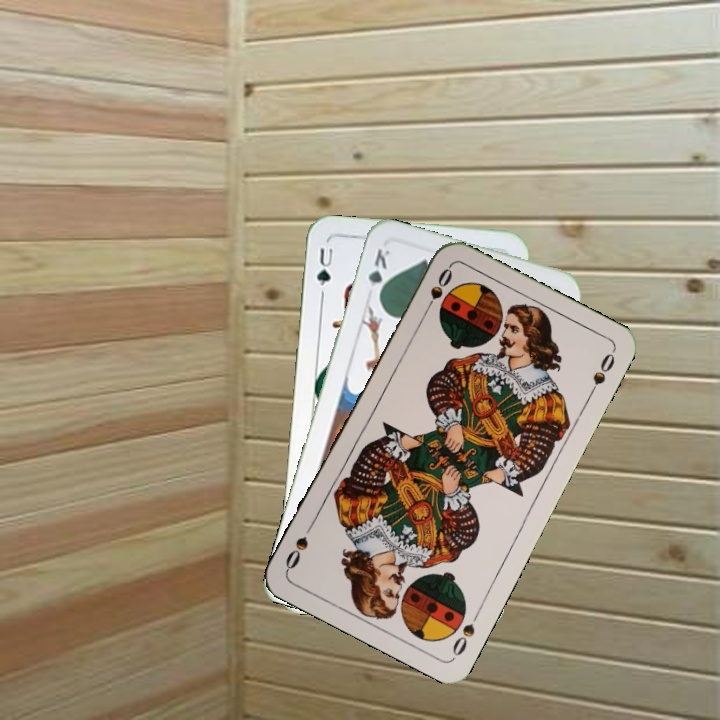GK: (364, 245, 393, 302)
GU: (312, 243, 336, 298)
SO: (448, 605, 484, 659), (420, 263, 455, 318)
